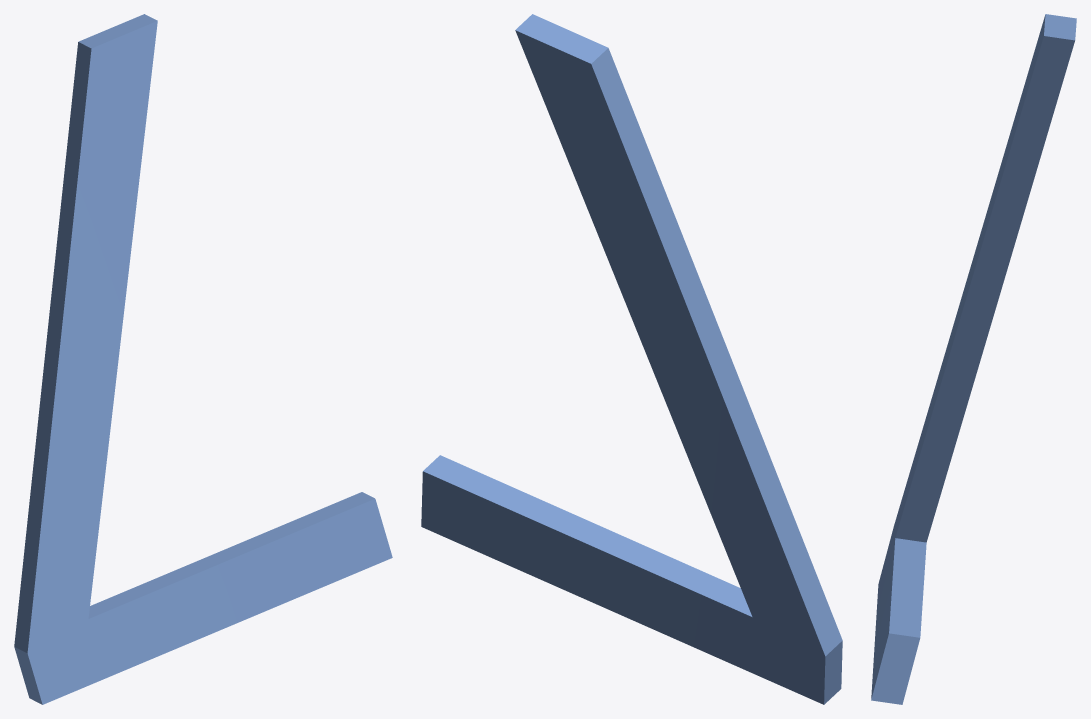
The model's file is New_Number_7.gltf.
3 views of the same model, side by side, from view 1: azimuth 30°, elevation 25°; view 2: azimuth 150°, elevation 25°; view 3: azimuth 270°, elevation 25° (orthographic). The views are drawn at different scales.
Visible parts, largest first — view 1: Part 151; view 2: Part 151; view 3: Part 151.
Boxes of the visible parts, bbox=[...] form: Part 151: bbox=[14, 14, 392, 704]; Part 151: bbox=[421, 14, 842, 704]; Part 151: bbox=[871, 14, 1076, 704].
Bounding box in the file's own units: 0.00369 × 0.00583 × 0.00166.
